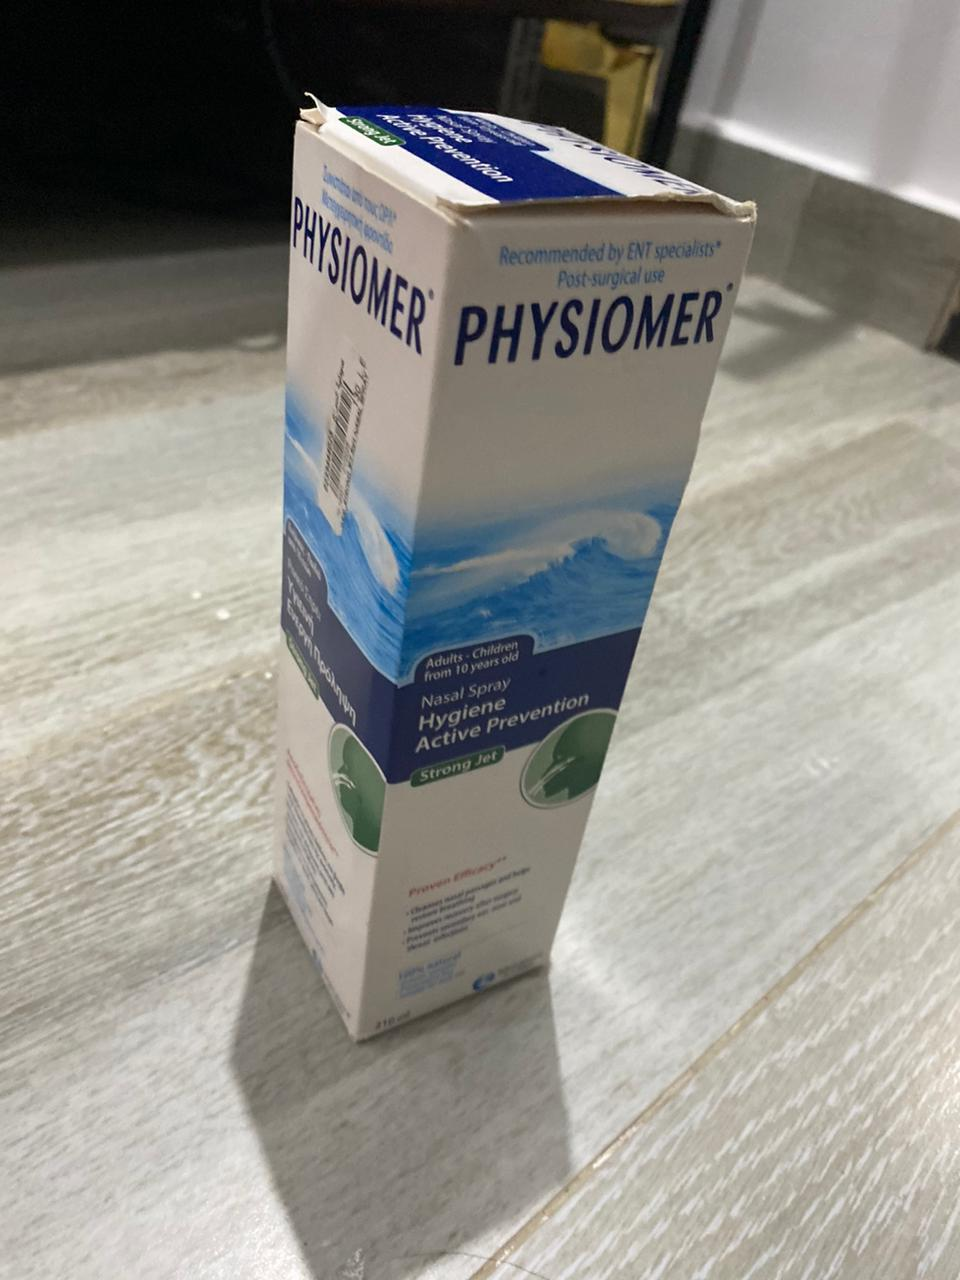Physiomer: (260, 89, 767, 1050)
